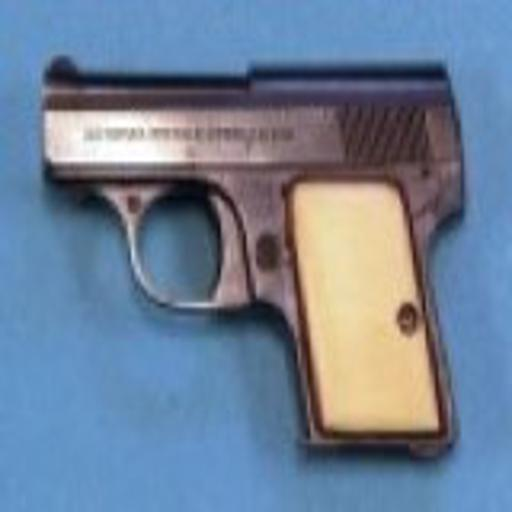Handgun: (37, 50, 469, 472)
